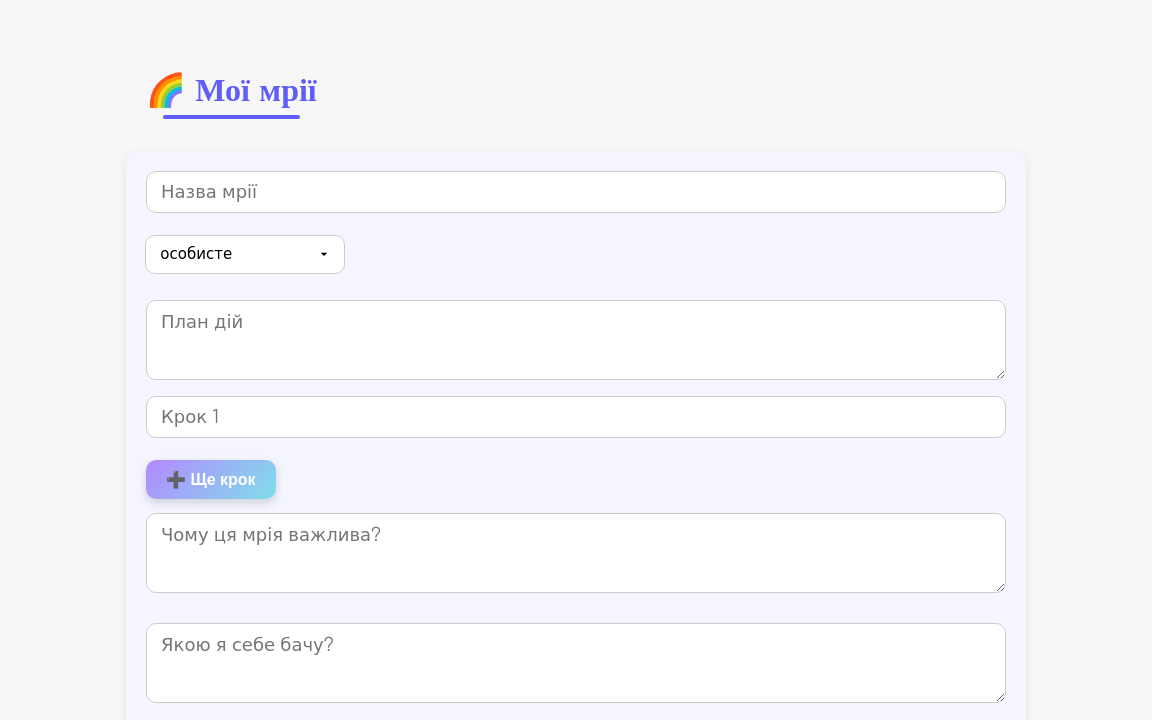
додає мрію з усіма полями
The width and height of the screenshot is (1152, 720).
Type "Моя мрія" into the field with placeholder "Назва мрії" at (576, 192), box left=146, top=170, right=1006, bottom=212
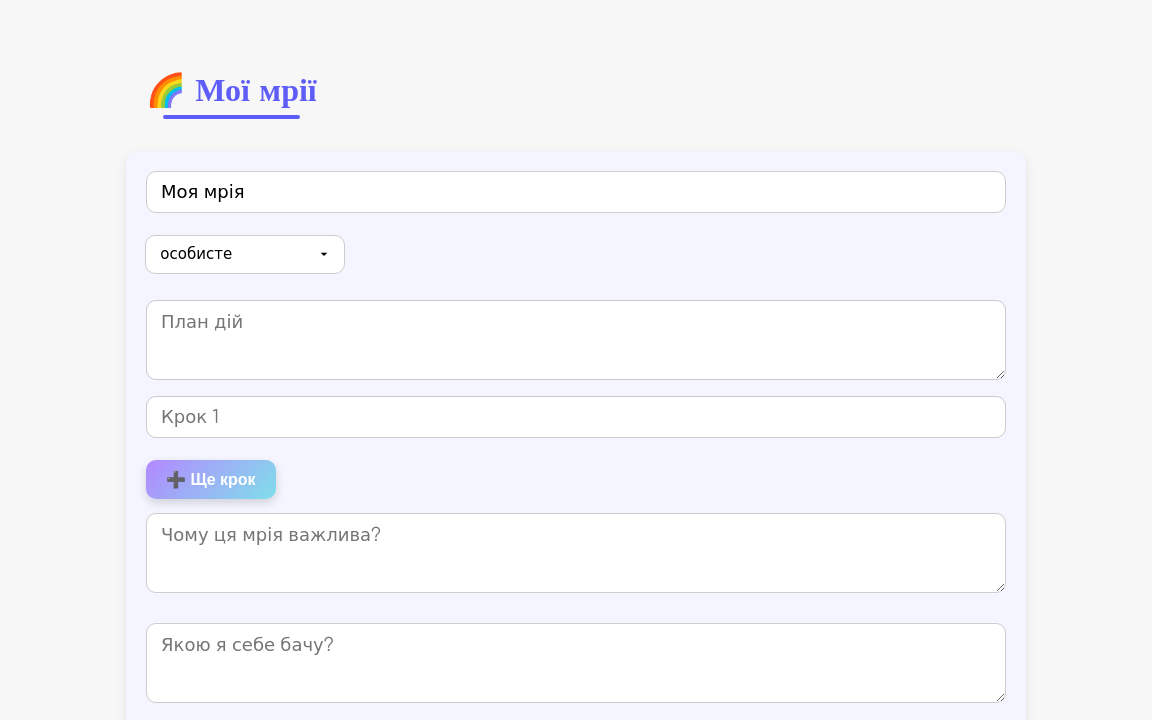
Type "Досягти мети" into the text box with placeholder "План дій" at (576, 340), box left=146, top=300, right=1006, bottom=380
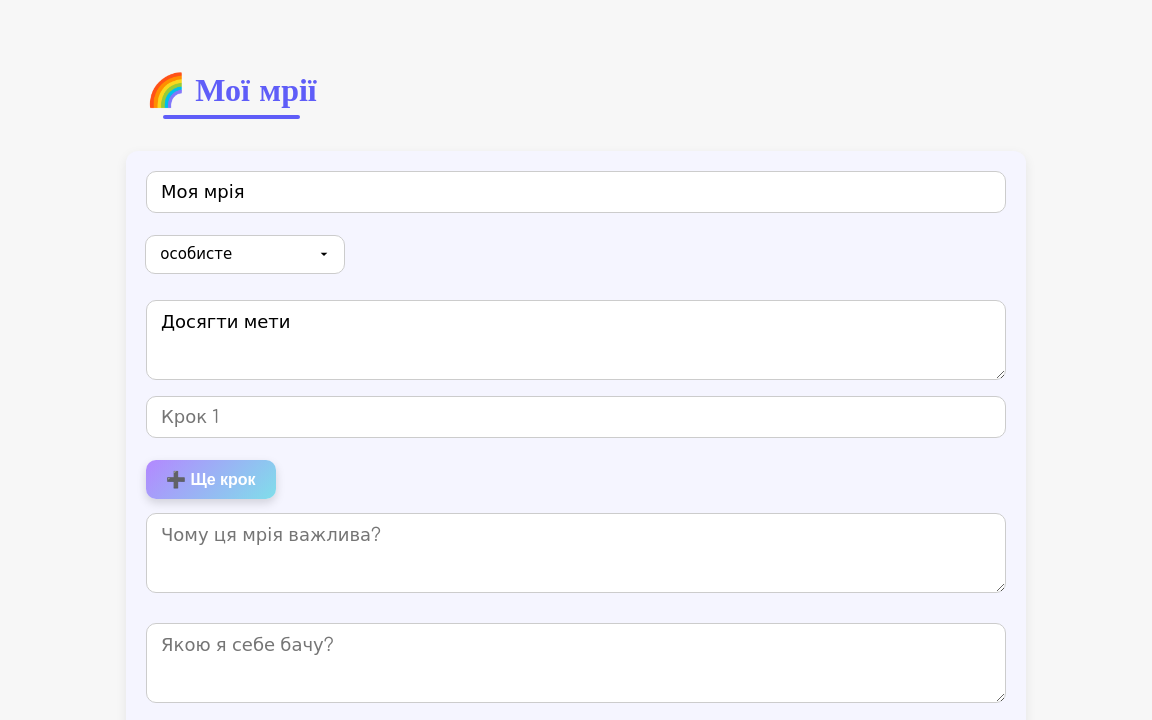
Type "Розпочати" into the field with placeholder "Крок 1" at (576, 416), box left=146, top=396, right=1006, bottom=438
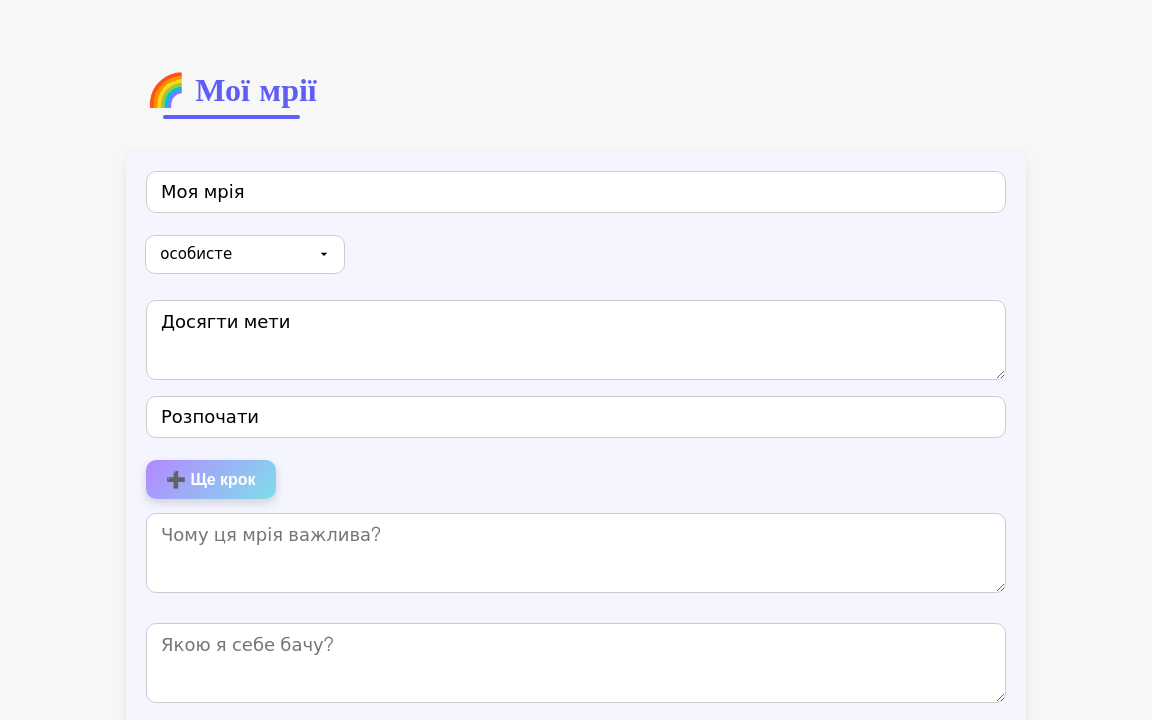
Type "Бо це моя ціль" into the text box with placeholder "Чому ця мрія важлива?" at (576, 552), box left=146, top=512, right=1006, bottom=592
(page scrolled)
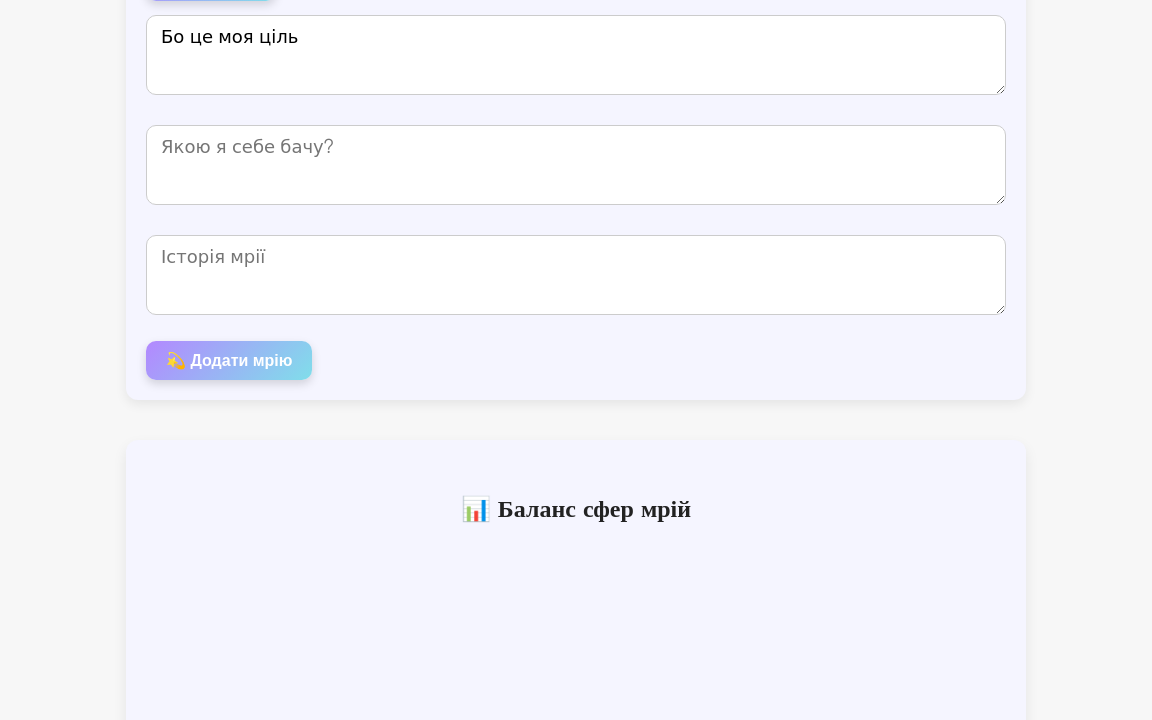
Click the button "💫 Додати мрію" at (229, 360), box left=146, top=340, right=312, bottom=380
(page scrolled)
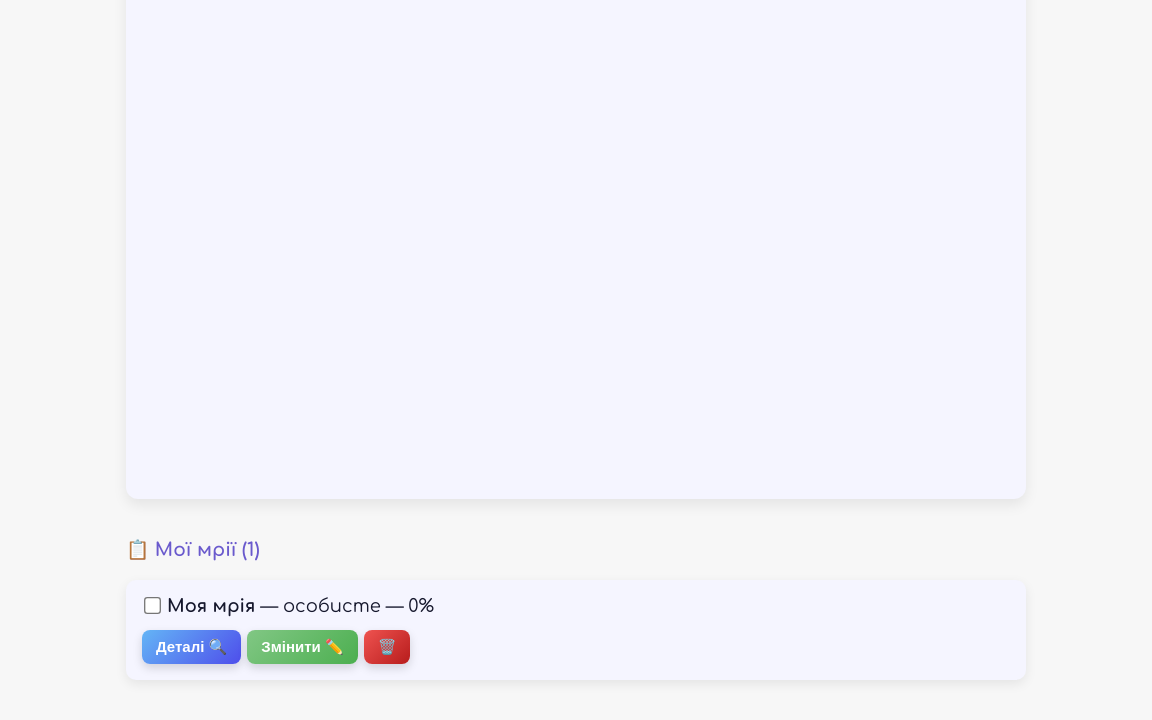
Check: the text "Моя мрія" is shown, box left=167, top=596, right=255, bottom=616
